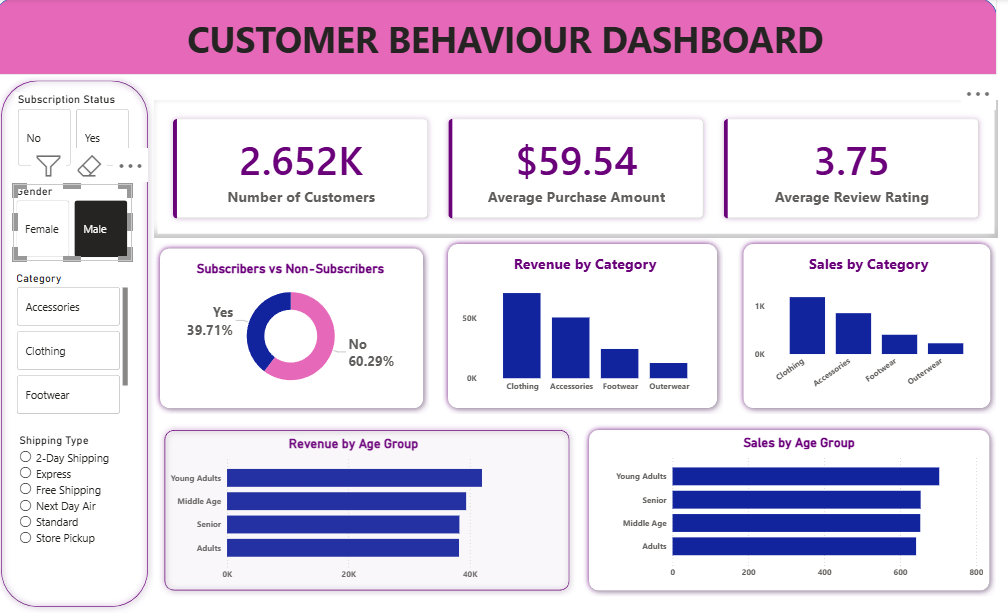

Layout of this report page (visuals, bound fields, positions):
{"tool":"powerbi","page":{"name":"Page 1","canvas":[1520,920],"ordinal":0},"visuals":[{"type":"cardVisual","fields":{"Data":["customer.Number of Customers","customer.Average Purchase Amount","customer.Average Review Rating"]},"box":[237,152.8,1262.3,206],"z":0},{"type":"shape","box":[0,0,1499.3,115.2],"z":1000},{"type":"textbox","box":[26.6,19.9,1472.7,95.2],"z":2000},{"type":"shape","box":[237,365.4,411.9,256.9],"z":3000},{"type":"donutChart","title":"Subscribers vs Non-Subscribers","fields":{"Category":["customer.subscription_status"],"Y":["Count(customer.customer_id)"]},"box":[274.6,392,336.6,203.7],"z":4000},{"type":"shape","box":[1111.7,358.8,387.6,263.5],"z":5000},{"type":"shape","box":[668.8,358.8,420.8,263.5],"z":6000},{"type":"clusteredColumnChart","title":"Revenue by Category","fields":{"Y":["Sum(customer.purchase_amount)"],"Category":["customer.category"]},"box":[693.2,380.9,378.7,217],"z":7000},{"type":"clusteredColumnChart","title":"Sales by Category","fields":{"Y":["Count(customer.customer_id)"],"Category":["customer.category"]},"box":[1131.7,380.9,352.1,214.8],"z":8000},{"type":"shape","box":[0,114.4,237.9,805.6],"z":9000},{"type":"advancedSlicerVisual","fields":{"Values":["customer.subscription_status"]},"box":[29.2,141.4,177.3,114.4],"z":10000},{"type":"advancedSlicerVisual","fields":{"Values":["customer.gender"]},"box":[26.9,278.3,177.3,114.4],"z":11000},{"type":"advancedSlicerVisual","fields":{"Values":["customer.category"]},"box":[26.9,408.4,177.3,219.9],"z":12000},{"type":"listSlicer","fields":{"Values":["customer.shipping_type"]},"box":[31.4,650.8,177.3,226.7],"z":13000},{"type":"clusteredBarChart","title":"Revenue by Age Group","fields":{"Y":["Sum(customer.purchase_amount)"],"Category":["customer.age_group"]},"box":[255.8,655.3,561,224.4],"z":14000},{"type":"shape","box":[244.6,637.3,623.9,258.1],"z":15000},{"type":"shape","box":[879.7,637.3,617.1,258.1],"z":16000},{"type":"clusteredBarChart","title":"Sales by Age Group","fields":{"Y":["Count(customer.customer_id)"],"Category":["customer.age_group"]},"box":[922.3,653,561,224.4],"z":17000}]}

Visuals, with their boxes on the page's 1520x920 design canvas (x1, y1, x2, y2). These are canvas units, not pixel positions in the 1008x613 screenshot, which may show the page scaled, cropped or inside an application window:
cardVisual - customer.Number of Customers x customer.Average Purchase Amount: box(237, 153, 1499, 359)
shape: box(0, 0, 1499, 115)
textbox: box(27, 20, 1499, 115)
shape: box(237, 365, 649, 622)
"Subscribers vs Non-Subscribers" donutChart: box(275, 392, 611, 596)
shape: box(1112, 359, 1499, 622)
shape: box(669, 359, 1090, 622)
"Revenue by Category" clusteredColumnChart: box(693, 381, 1072, 598)
"Sales by Category" clusteredColumnChart: box(1132, 381, 1484, 596)
shape: box(0, 114, 238, 920)
advancedSlicerVisual - customer.subscription_status: box(29, 141, 206, 256)
advancedSlicerVisual - customer.gender: box(27, 278, 204, 393)
advancedSlicerVisual - customer.category: box(27, 408, 204, 628)
listSlicer - customer.shipping_type: box(31, 651, 209, 878)
"Revenue by Age Group" clusteredBarChart: box(256, 655, 817, 880)
shape: box(245, 637, 868, 895)
shape: box(880, 637, 1497, 895)
"Sales by Age Group" clusteredBarChart: box(922, 653, 1483, 877)
